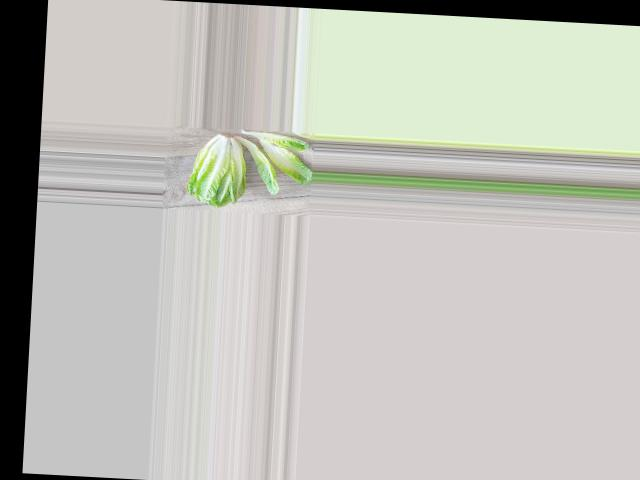lettuce: (184, 134, 251, 207)
